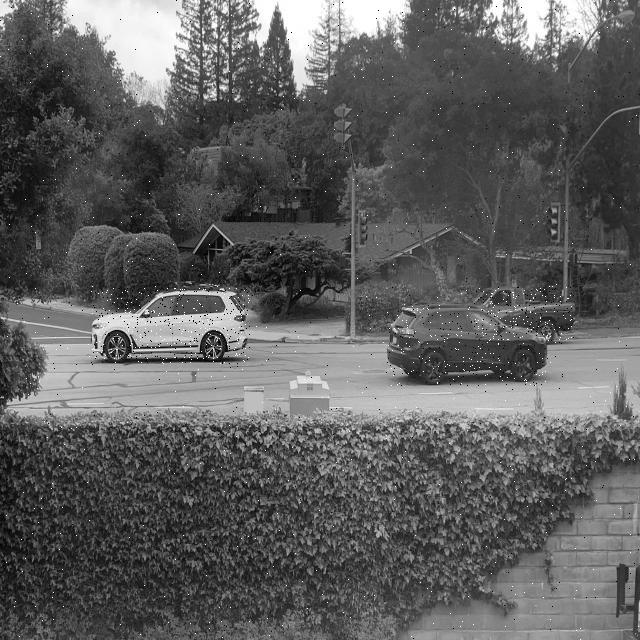Pickup: (474, 286, 576, 344)
SUV: (387, 304, 548, 386), (91, 286, 250, 364)
